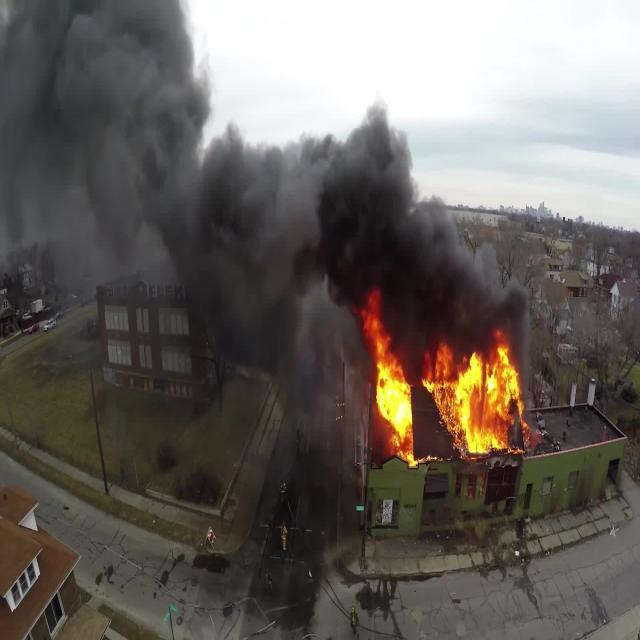Fire: (356, 293, 531, 464)
Smoke: (0, 0, 532, 463)
